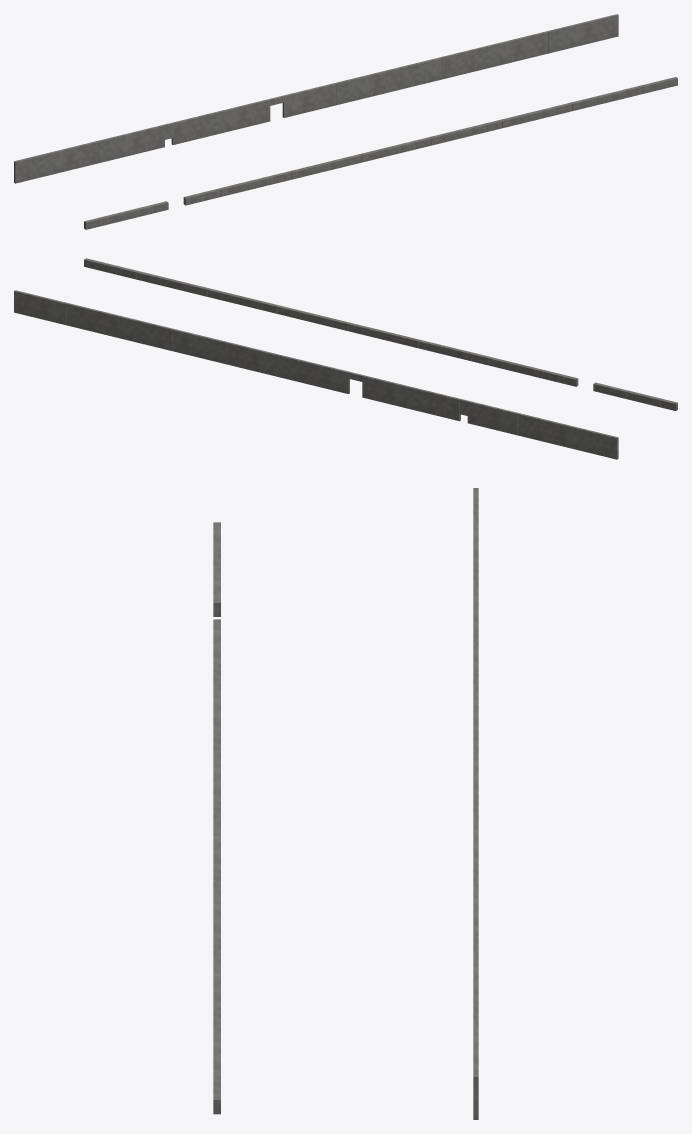
File: IslandQuarantineWalls.fbx
3 views of the same model, one above another, from view 1: azimuth 30°, elevation 25°; view 2: azimuth 150°, elevation 25°; view 3: azimuth 270°, elevation 25° (orthographic). The views are drawn at different scales.
Parts seen in each view (by area): view 1: QuarantineFacade.001, SouthernQuayFacade.001; view 2: QuarantineFacade.001, SouthernQuayFacade.001; view 3: SouthernQuayFacade.001, QuarantineFacade.001.
Part boxes in pixels (x1,y1,x2,y2): QuarantineFacade.001: (14,14,618,183); SouthernQuayFacade.001: (84,77,677,229); QuarantineFacade.001: (14,290,618,459); SouthernQuayFacade.001: (84,258,677,410); SouthernQuayFacade.001: (213,522,220,1114); QuarantineFacade.001: (473,488,478,1119).
Size of the model in its own units: 106 by 3.6 by 20.2.
